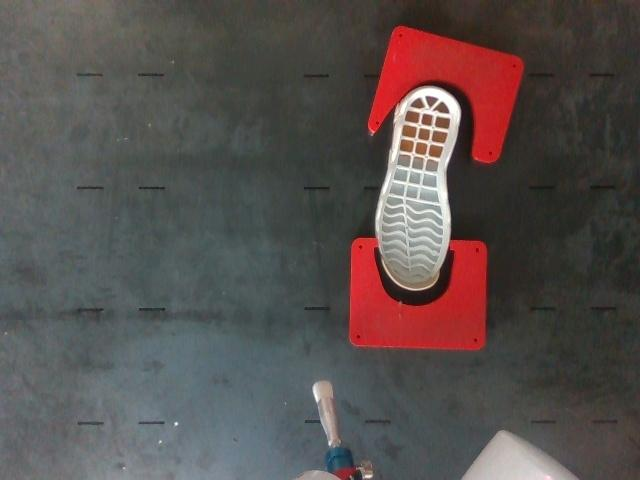shoes: (380, 88, 458, 288)
